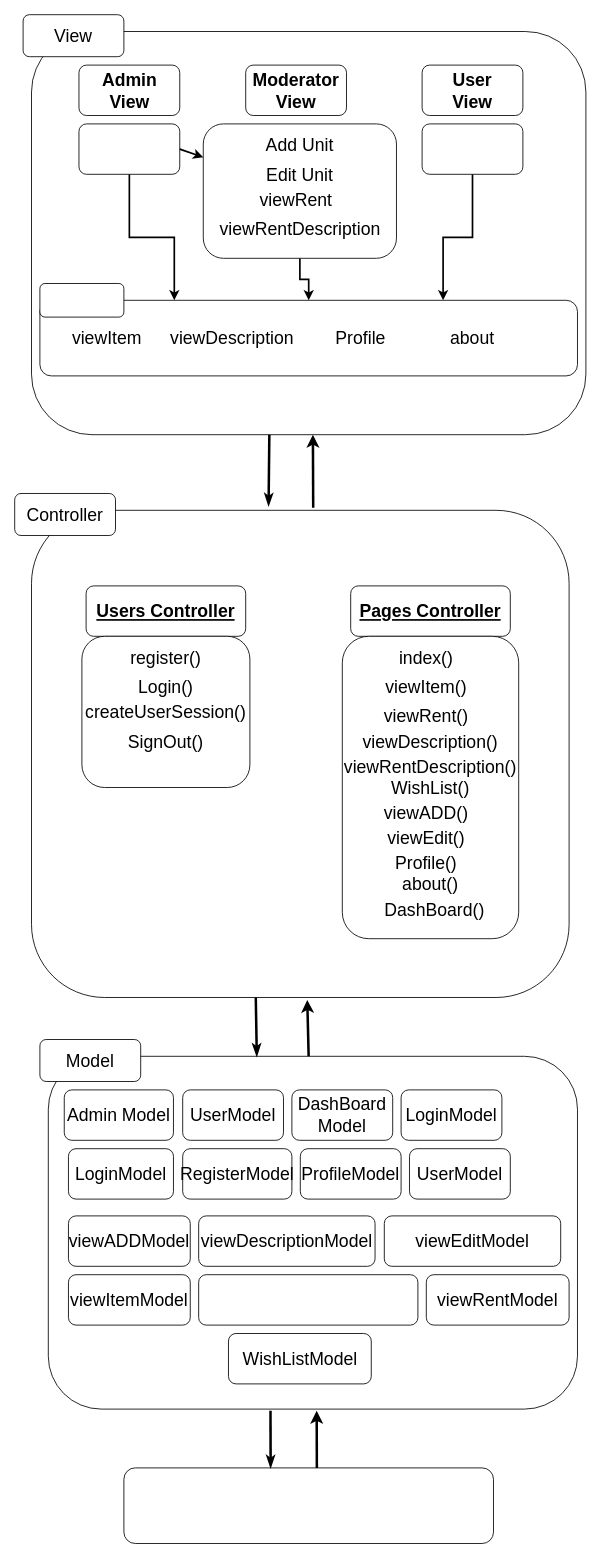
The diagram is 601 pixels wide and 1558 high, and some of its shapes have lost their labels. The box of each missing label's shape, as (x1, y1, x2, y2) in pixels:
DashBoard: (78, 123, 180, 174)
Data Base: (123, 1467, 494, 1544)
Shared View: (39, 283, 124, 317)
viewRentDescriptionModel: (198, 1274, 418, 1325)
WishList: (421, 123, 523, 174)
